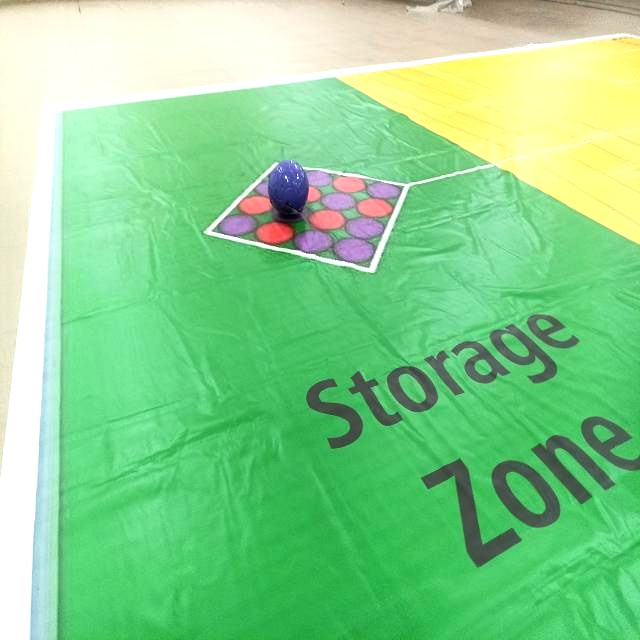purple_ball: (272, 161, 308, 215)
